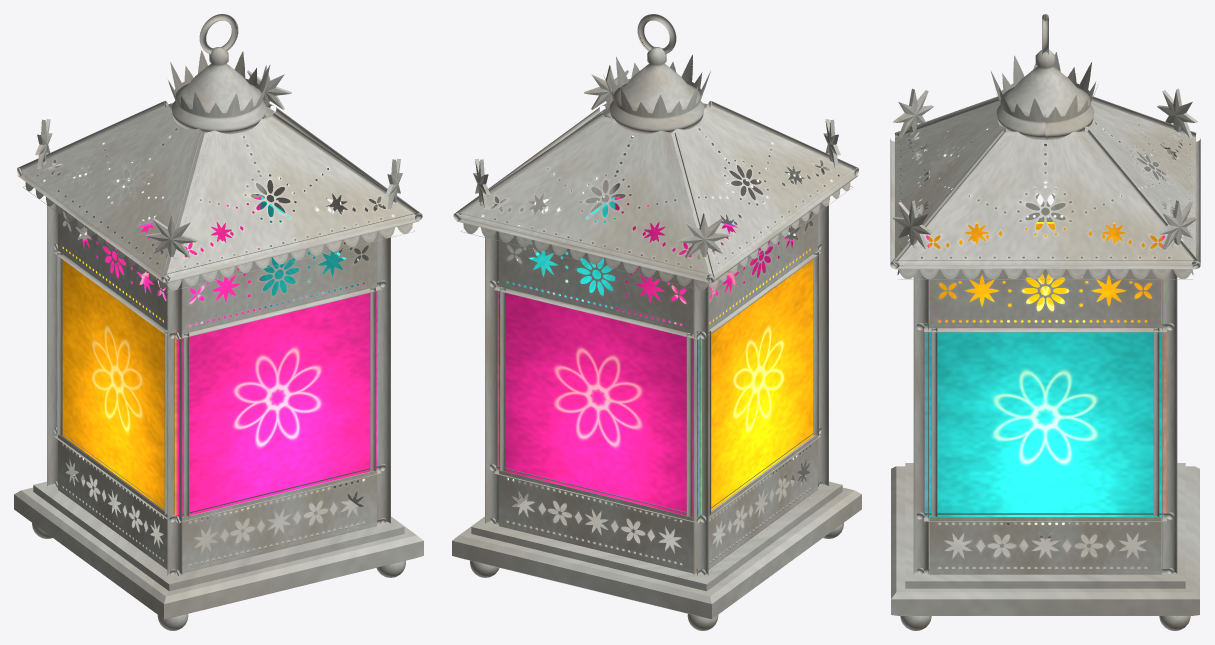
File: lantern_hojalata_hero.glb
3 renders of one model, left to right at view 1: azimuth 30°, elevation 25°; view 2: azimuth 150°, elevation 25°; view 3: azimuth 270°, elevation 25°, orthographic. The views are drawn at different scales.
Visible parts, largest first — view 1: lantern_hojalata_hero; view 2: lantern_hojalata_hero; view 3: lantern_hojalata_hero.
Part boxes in pixels (x1,y1,x2,y2): lantern_hojalata_hero: (14,14,423,630); lantern_hojalata_hero: (452,14,861,630); lantern_hojalata_hero: (890,14,1200,630).
Size of the model in its own units: 0.235 by 0.4666 by 0.235.
Materials: 6 (3 with a texture image).
